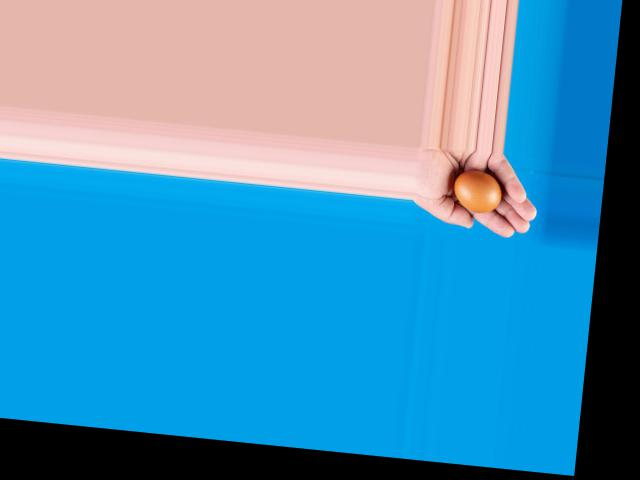egg: (452, 169, 504, 214)
